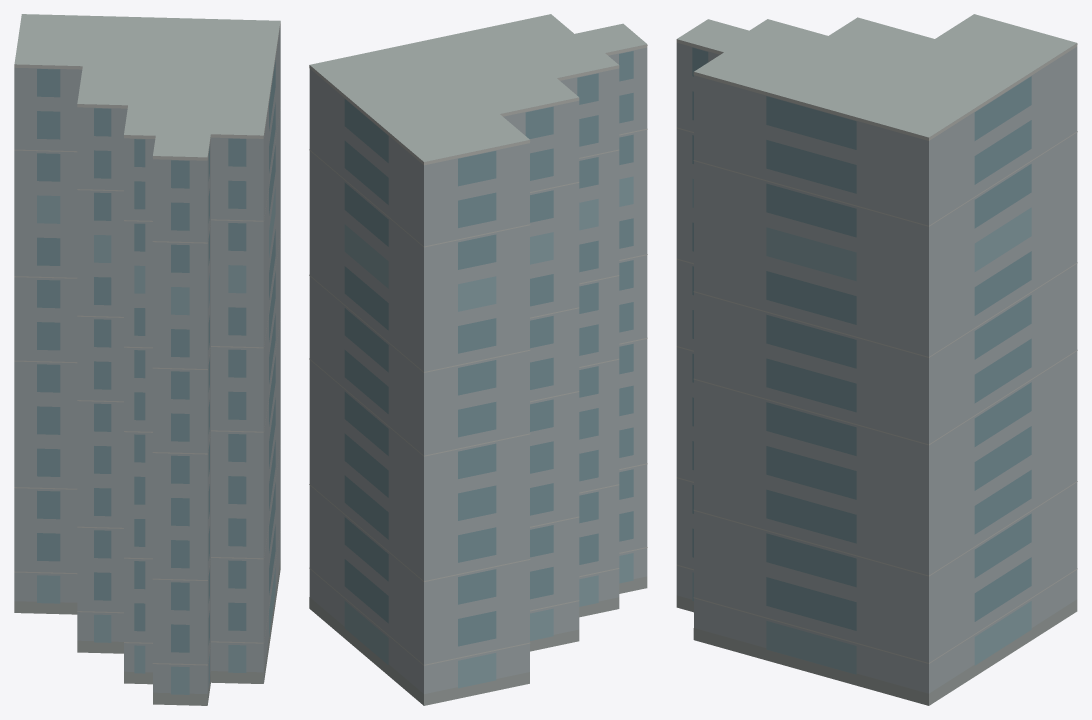
The model's file is residential-f2ef9eb8-be64-4ba6-b82e-1f66d466a5f1.glb.
3 views of the same model, side by side, from view 1: azimuth 30°, elevation 25°; view 2: azimuth 150°, elevation 25°; view 3: azimuth 270°, elevation 25° (orthographic). The views are drawn at different scales.
Visible parts, largest first — view 1: residential-f2ef9eb8-be64-4ba6-b82e-1f66d466a5f1.tmp; view 2: residential-f2ef9eb8-be64-4ba6-b82e-1f66d466a5f1.tmp; view 3: residential-f2ef9eb8-be64-4ba6-b82e-1f66d466a5f1.tmp.
Boxes of the visible parts, x1,y1,x2,y2 form: residential-f2ef9eb8-be64-4ba6-b82e-1f66d466a5f1.tmp: [14, 14, 280, 705]; residential-f2ef9eb8-be64-4ba6-b82e-1f66d466a5f1.tmp: [309, 14, 647, 705]; residential-f2ef9eb8-be64-4ba6-b82e-1f66d466a5f1.tmp: [676, 14, 1077, 705].
Size of the model in its own units: 18.5 by 39.65 by 25.36.
